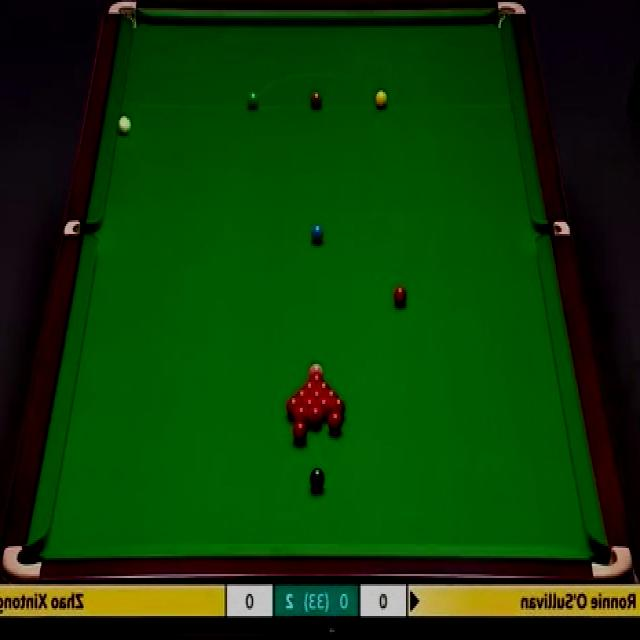pocket: (2, 540, 45, 583), (594, 543, 632, 580), (106, 0, 140, 34), (496, 0, 526, 29), (536, 220, 568, 240), (65, 218, 98, 237)
